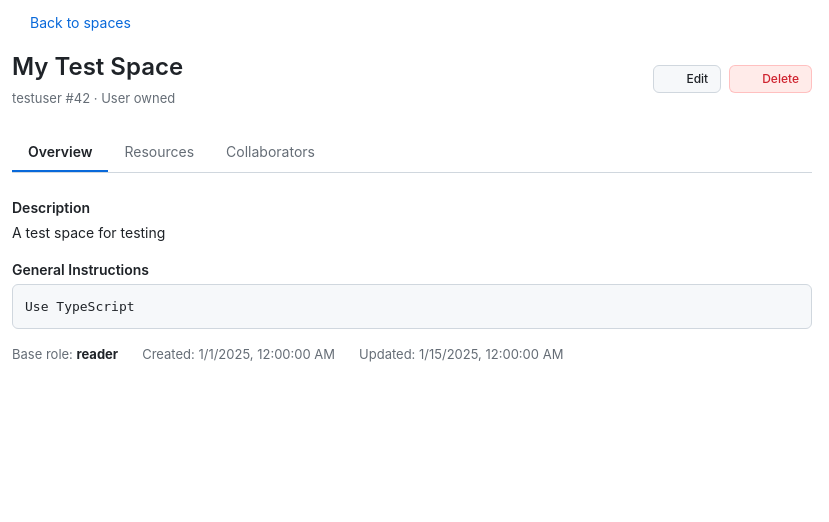
Test: SpaceDetailPage › shows delete confirmation on Delete click
Click the button "Delete" at (771, 79), box x1=729 y1=65 x2=812 y2=93
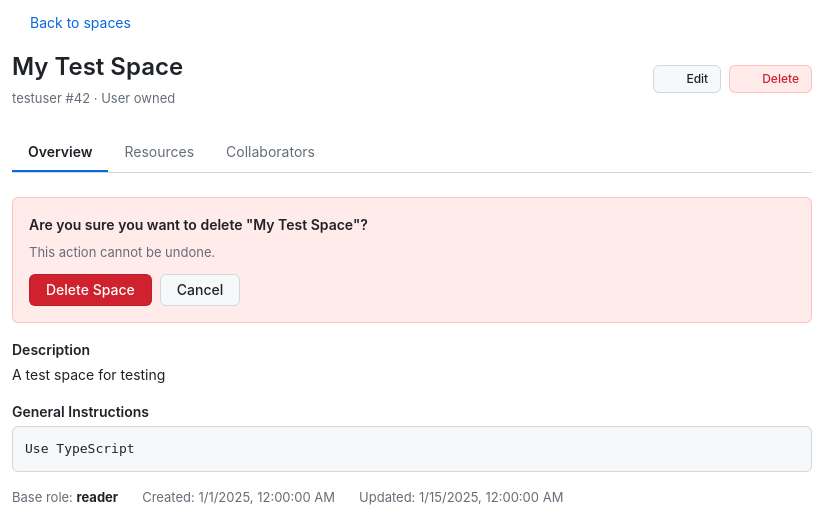
Now the text "Are you sure you want to delete \"My Test Space\"?" is shown, box x1=29 y1=216 x2=368 y2=232
Now the button "Delete Space" is shown, box x1=29 y1=274 x2=152 y2=306
